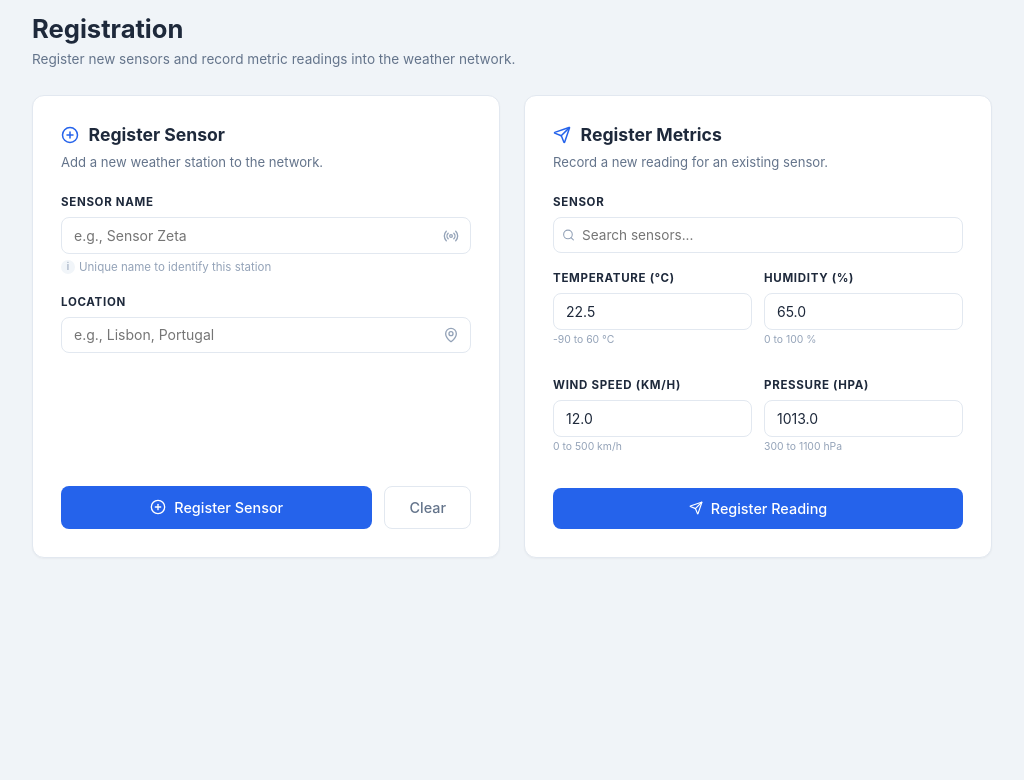
Scenario: Registration › creates sensor successfully
Type "New Station" into the field with placeholder "e.g., Sensor Zeta". click: (266, 236)
box: [61,218,471,254]
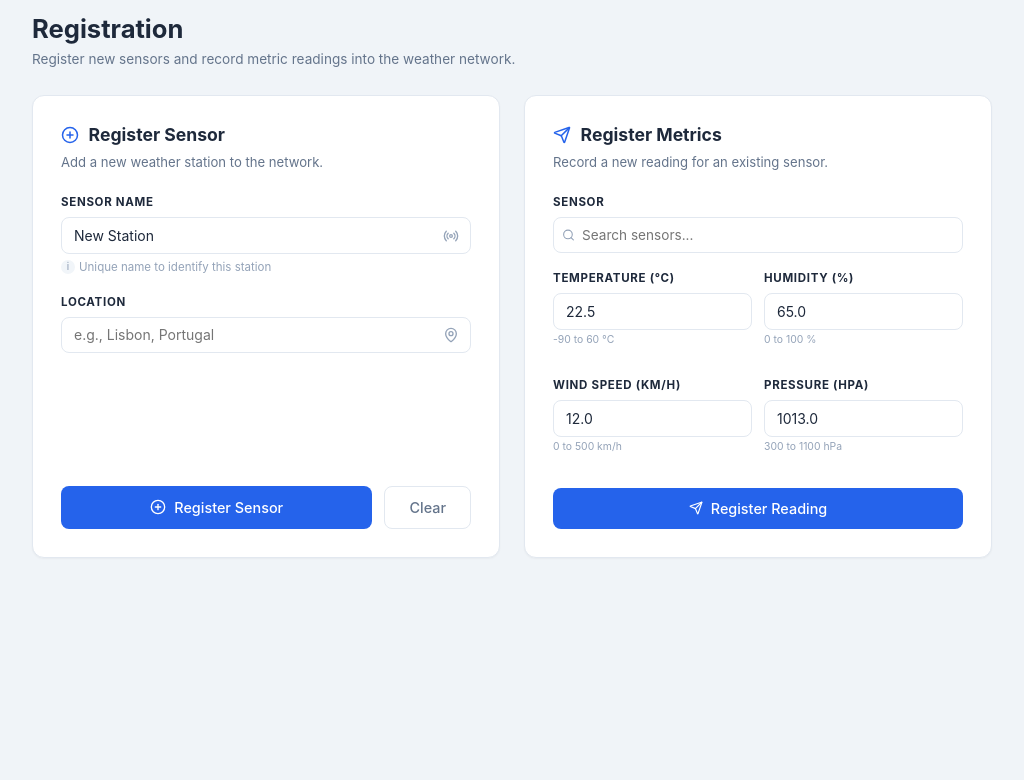
Click the button "Register Sensor". click: (217, 507)
box: [61,486,372,529]
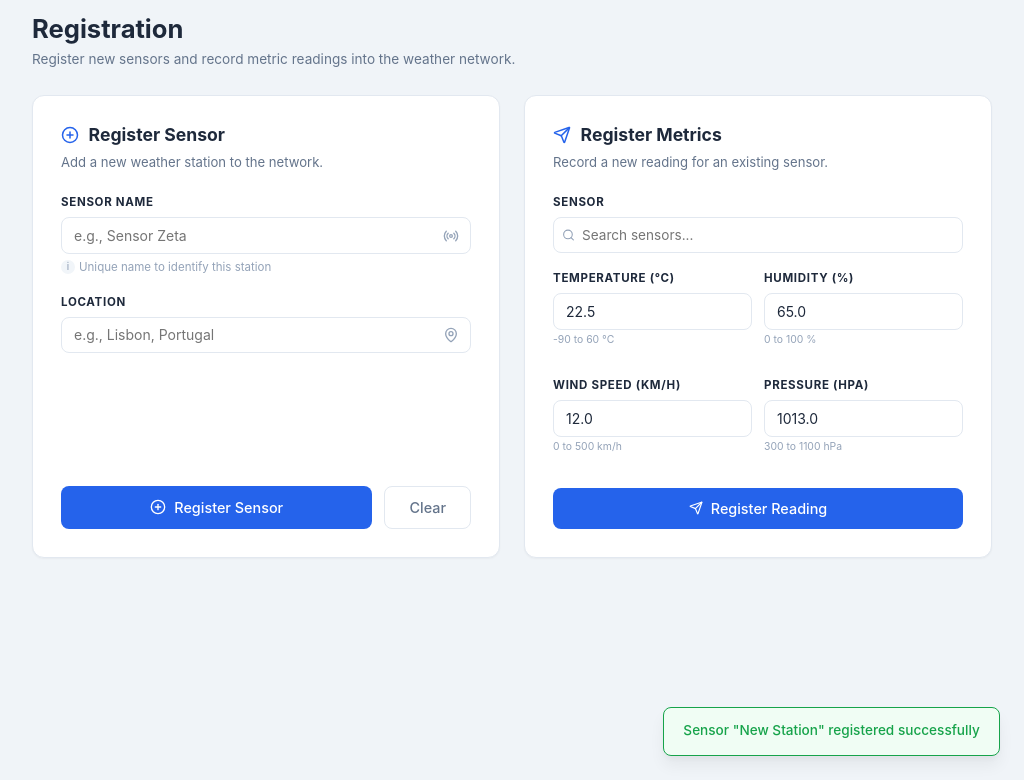
Result: the text "Sensor \"New Station\" registered successfully" is shown at [663,707,1000,756]
